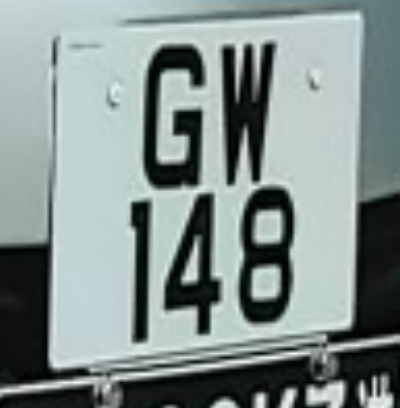1: (111, 196, 167, 352)
4: (157, 185, 239, 338)
8: (225, 182, 309, 334)
G: (130, 35, 220, 195)
W: (207, 35, 285, 190)
